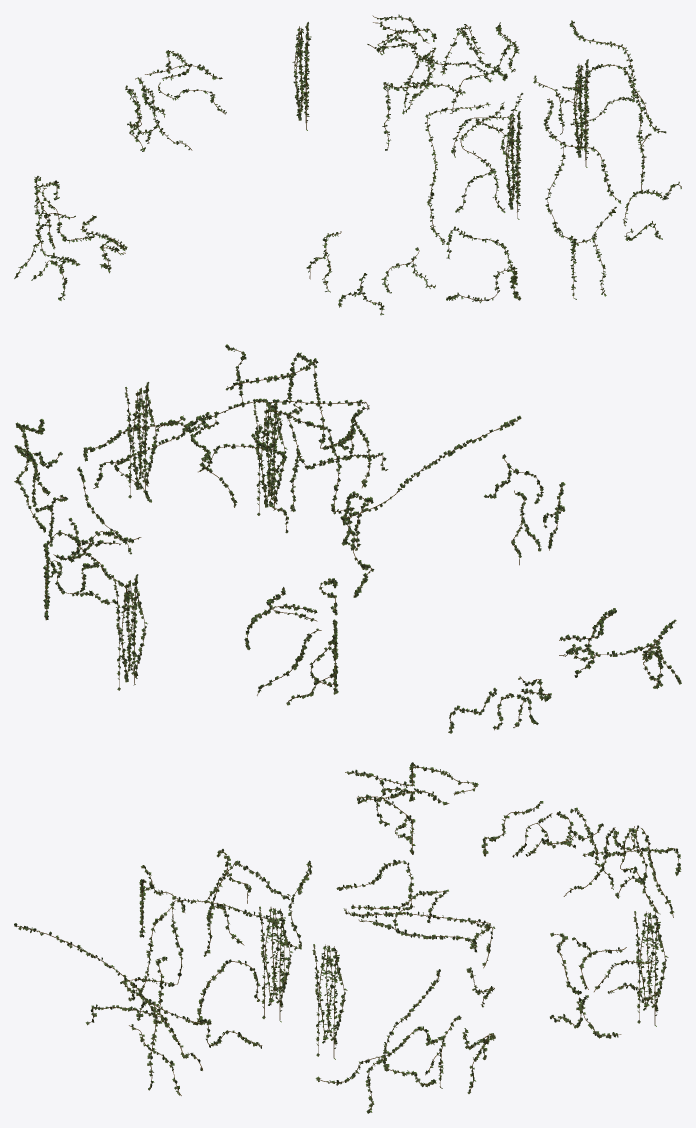
Rendered from East Ivy .fbx.
The picture shows the model from 3 angles, top to bottom: view 1: azimuth 30°, elevation 25°; view 2: azimuth 150°, elevation 25°; view 3: azimuth 270°, elevation 25°; orthographic projection. The views are drawn at different scales.
Parts seen in each view (by area): view 1: Trepadeira Leste; view 2: Trepadeira Leste; view 3: Trepadeira Leste.
Part boxes in pixels (bbox=[...]): Trepadeira Leste: bbox=[14, 14, 681, 315]; Trepadeira Leste: bbox=[14, 344, 681, 733]; Trepadeira Leste: bbox=[14, 762, 681, 1113].
Size of the model in its own units: 3534 by 962 by 3019.
